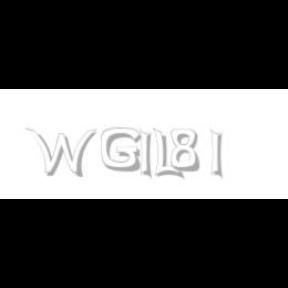8: (171, 128, 200, 172)
G: (101, 128, 141, 172)
I: (210, 128, 224, 180), (140, 128, 152, 180)
L: (153, 128, 181, 180)
W: (25, 128, 97, 178)
